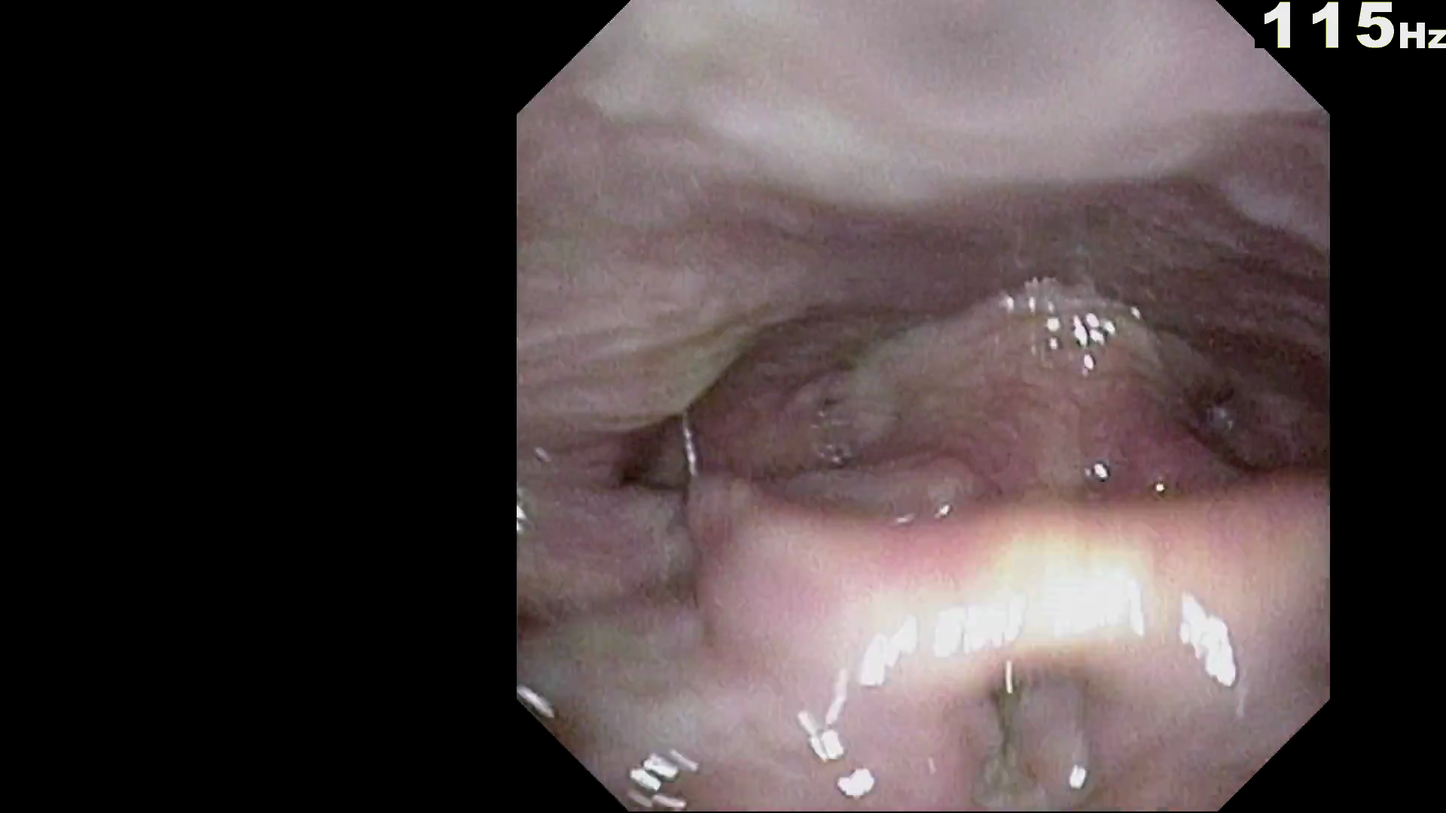epiglottis: (708, 574, 1257, 742)
